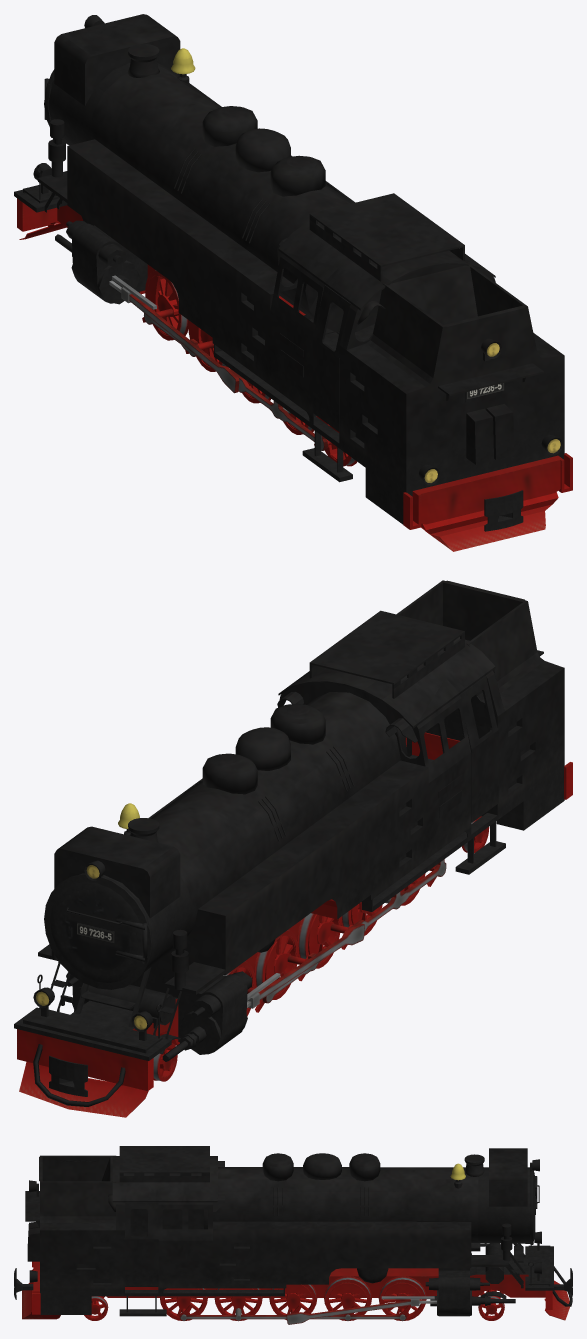
File: harz_99_23_24.gltf
The picture shows the model from 3 angles, top to bottom: view 1: azimuth 30°, elevation 25°; view 2: azimuth 150°, elevation 25°; view 3: azimuth 270°, elevation 25°; orthographic projection. The views are drawn at different scales.
Parts seen in each view (by area): view 1: Brockenlok; view 2: Brockenlok; view 3: Brockenlok.
Boxes of the visible parts, bbox=[...] form: Brockenlok: bbox=[14, 14, 572, 551]; Brockenlok: bbox=[14, 580, 572, 1117]; Brockenlok: bbox=[14, 1146, 572, 1324].
Size of the model in its own units: 2.68 by 3.75 by 12.26.
Materials: 1 (1 with a texture image).
